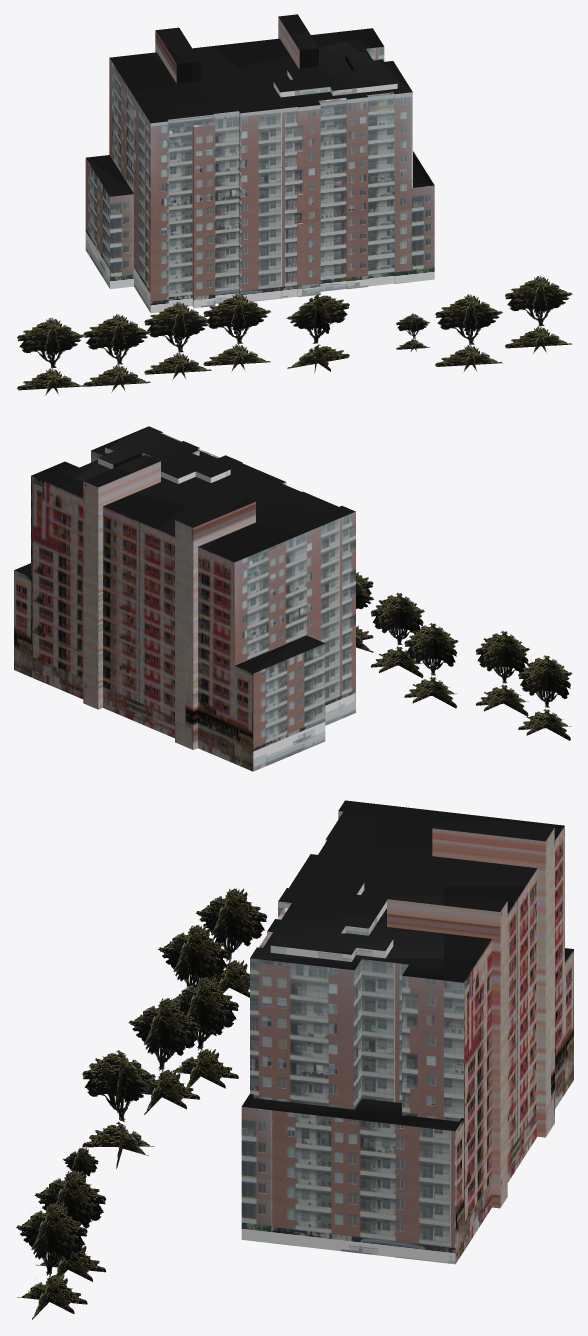
File: edificio+frente+a+carrefour+norte+(cali).fbx
3 views of the same model, one above another, from view 1: azimuth 30°, elevation 25°; view 2: azimuth 150°, elevation 25°; view 3: azimuth 270°, elevation 25° (orthographic). The views are drawn at different scales.
Parts seen in each view (by area): view 1: Model, Group2, Group4, Group6, Group7, Group5, Group3, Group1, Group8; view 2: Model, Group3, Group5, Group4, Group2, Group1; view 3: Model, Group7, Group2, Group1, Group3, Group5, Group6, Group4.
Part boxes in pixels (x1=…): Model: x1=85, y1=14, x2=434, y2=312; Group2: x1=203, y1=293, x2=270, y2=371; Group4: x1=83, y1=314, x2=151, y2=392; Group6: x1=435, y1=294, x2=502, y2=372; Group7: x1=505, y1=275, x2=572, y2=354; Group5: x1=17, y1=317, x2=84, y2=395; Group3: x1=144, y1=302, x2=211, y2=380; Group1: x1=286, y1=294, x2=349, y2=372; Group8: x1=396, y1=313, x2=429, y2=351; Model: x1=14, y1=426, x2=355, y2=771; Group3: x1=404, y1=623, x2=458, y2=708; Group5: x1=518, y1=655, x2=572, y2=740; Group4: x1=475, y1=631, x2=529, y2=716; Group2: x1=370, y1=592, x2=424, y2=678; Group1: x1=356, y1=572, x2=374, y2=652; Model: x1=241, y1=800, x2=573, y2=1264; Group7: x1=16, y1=1202, x2=87, y2=1319; Group2: x1=128, y1=998, x2=200, y2=1115; Group1: x1=82, y1=1050, x2=155, y2=1168; Group3: x1=170, y1=977, x2=238, y2=1088; Group5: x1=195, y1=888, x2=267, y2=997; Group6: x1=34, y1=1170, x2=106, y2=1281; Group4: x1=158, y1=925, x2=229, y2=1035.
Bounding box in the file's own units: 7785 × 3753 × 5527.
